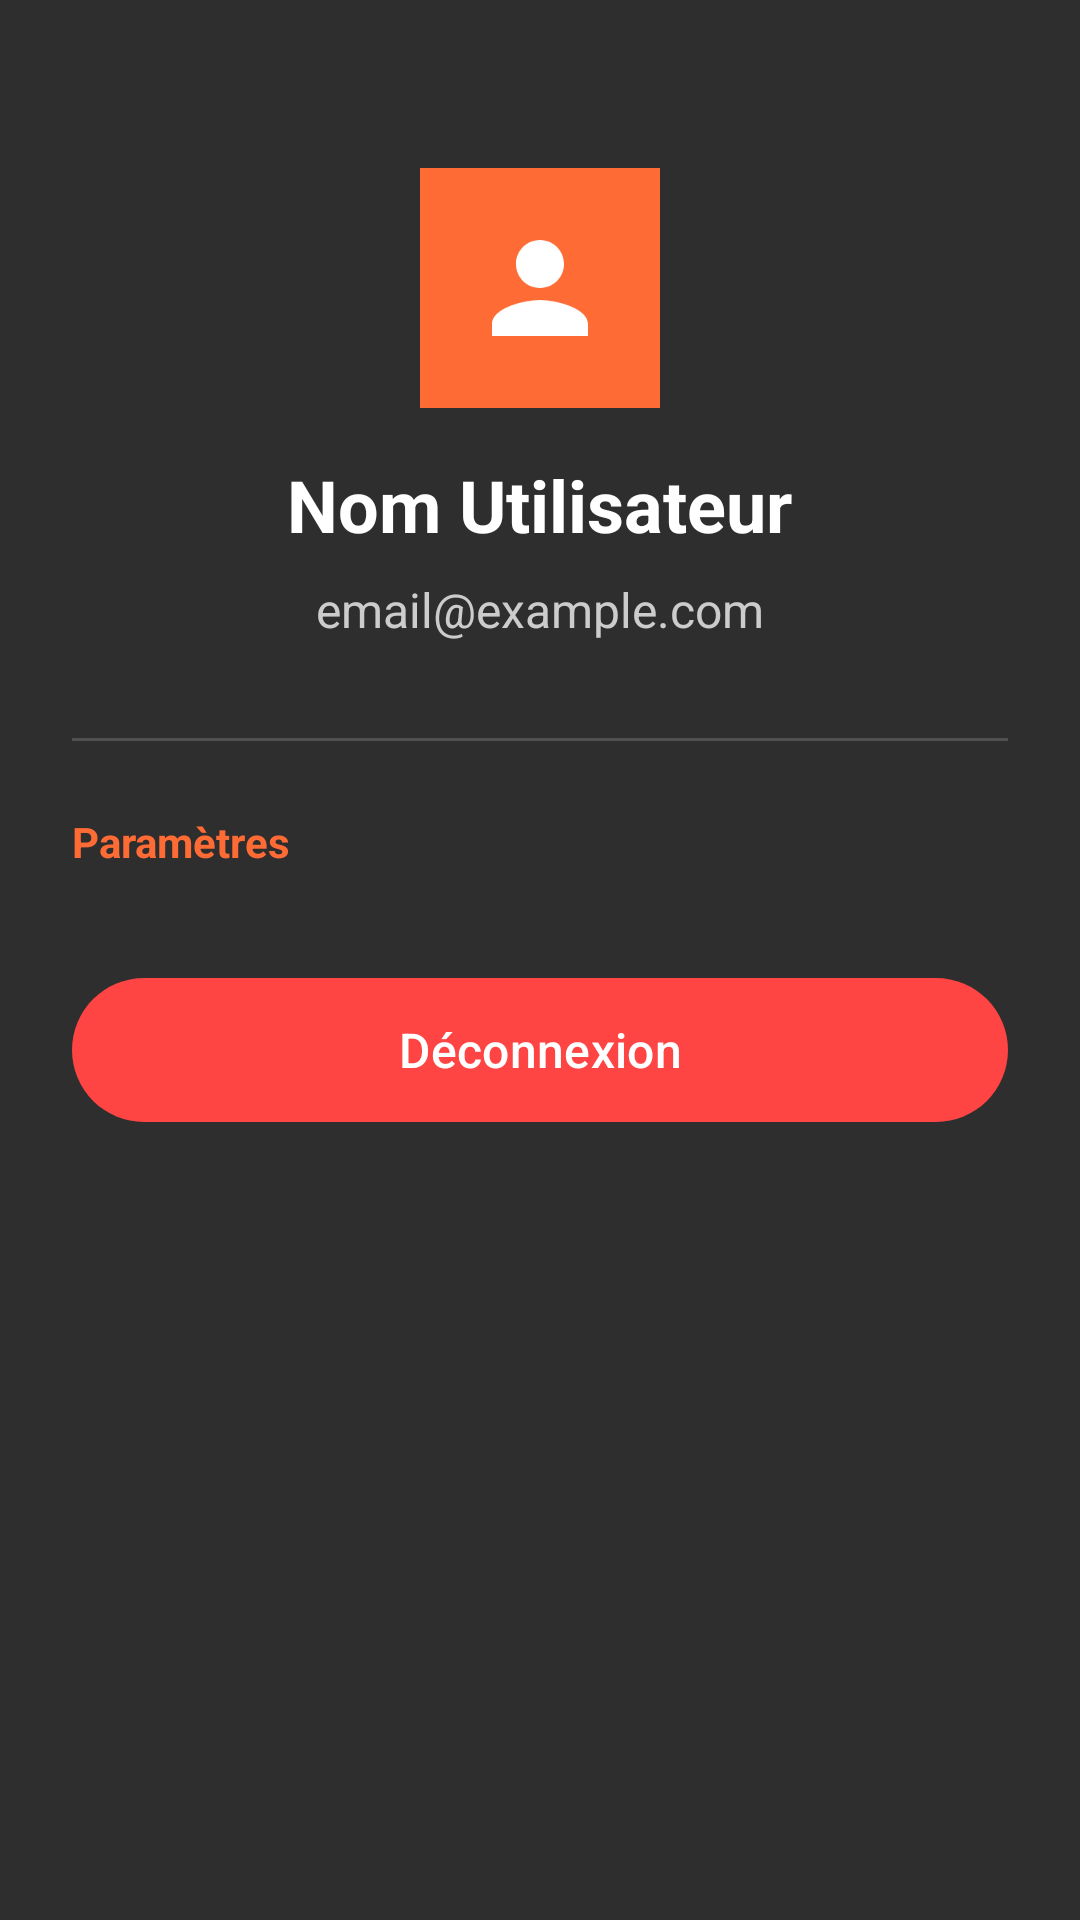

Icon click points for this 1080px×1920px phone screenshot, format point (x, y):
person: point (540, 288)
